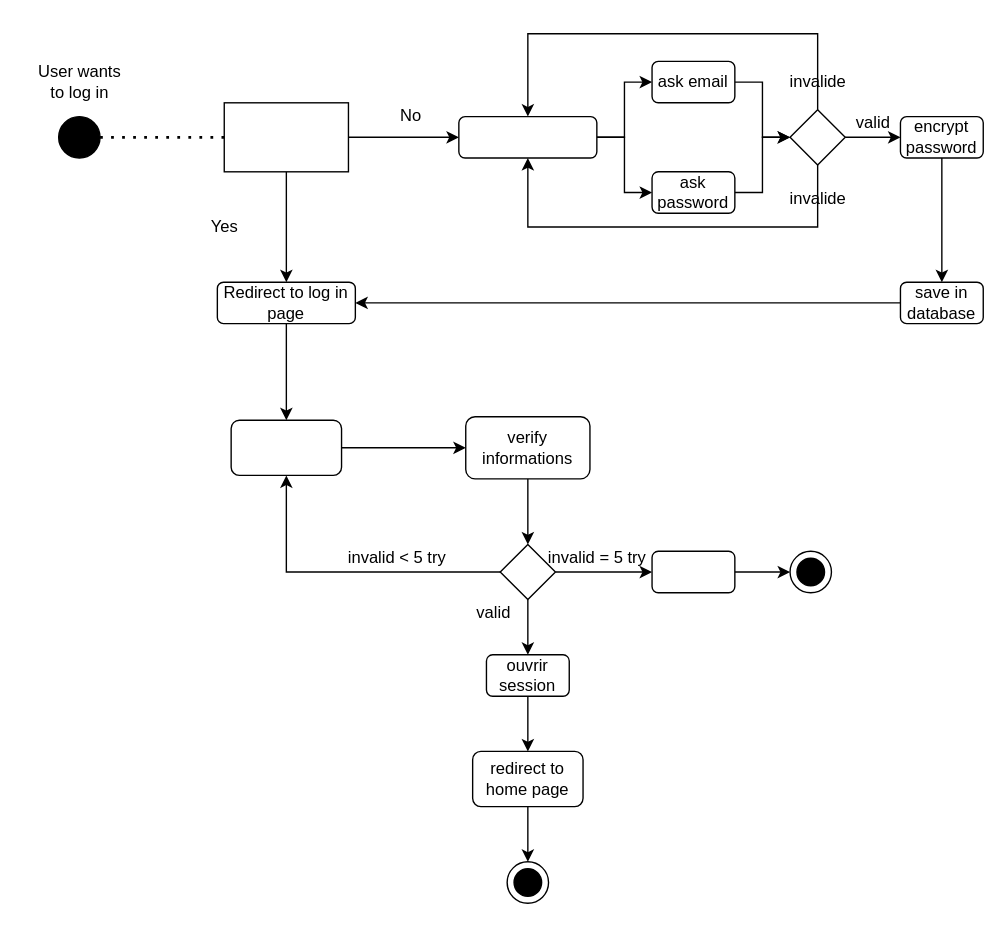
Image size: 1007x927. Some labels were removed from this diagram. The centre of each missing label's shape, as x and y in pixels:
"ask log in informations" belongs at (286,447).
"block account" belongs at (693,571).
"Client is registered" belongs at (285,136).
"Redirect to sign up page" belongs at (527,136).
